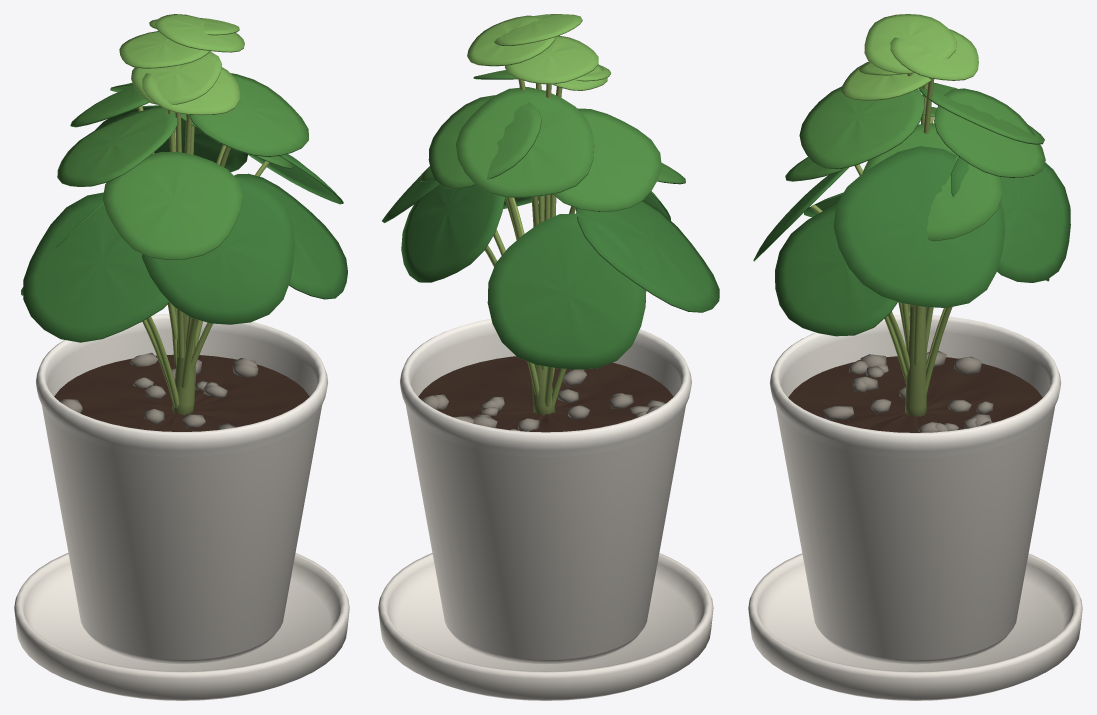
File: pot-plante-bureau-realiste.glb
3 views of the same model, side by side, from view 1: azimuth 30°, elevation 25°; view 2: azimuth 150°, elevation 25°; view 3: azimuth 270°, elevation 25° (orthographic).
Parts seen in each view (by area): view 1: pot-plante-bureau-realiste; view 2: pot-plante-bureau-realiste; view 3: pot-plante-bureau-realiste.
Boxes of the visible parts, left/top/right/bottom form: pot-plante-bureau-realiste: left=14, top=14, right=349, bottom=700; pot-plante-bureau-realiste: left=378, top=14, right=719, bottom=700; pot-plante-bureau-realiste: left=748, top=14, right=1082, bottom=700.
Bounding box in the file's own units: 0.1443 × 0.2822 × 0.14.
